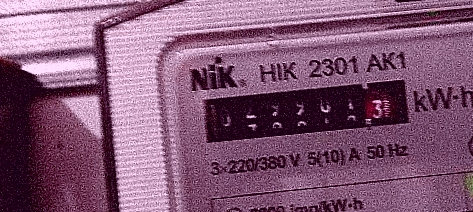0: (316, 89, 332, 115), (216, 106, 234, 128)
1: (341, 88, 356, 112)
2: (240, 100, 258, 121)
3: (368, 96, 384, 119)
9: (291, 93, 307, 117), (266, 96, 280, 119)
screen: (188, 68, 420, 153)
